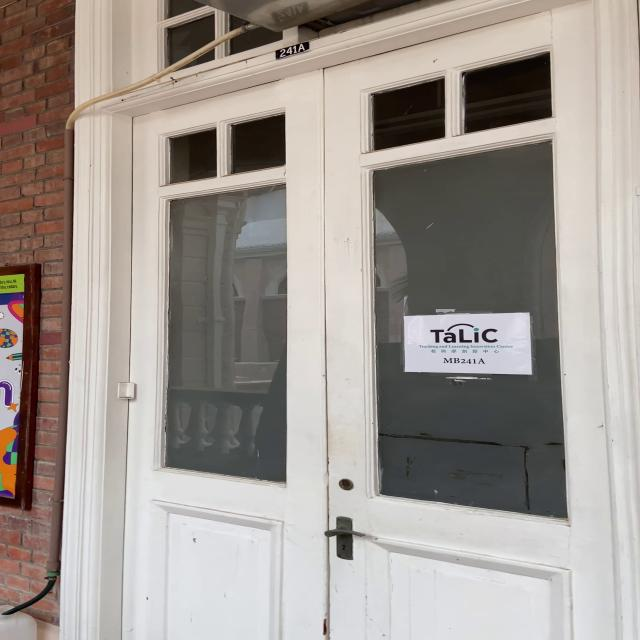room241a: (272, 41, 311, 63)
